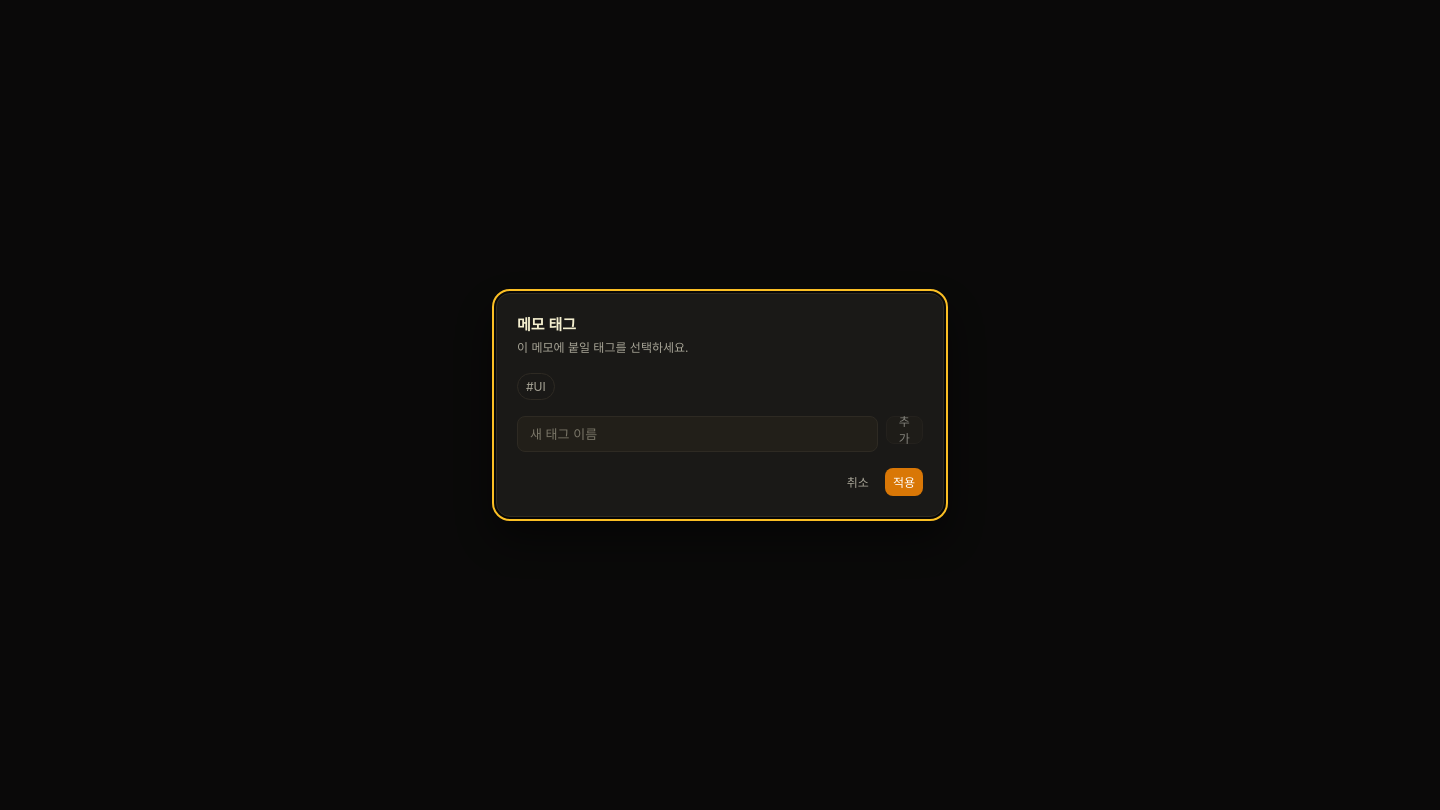
Test: MemoTagPickerDialog › keeps the dialog open and reports apply failures
Click the button "#UI" at x=536, y=387, box [517,373,555,400]
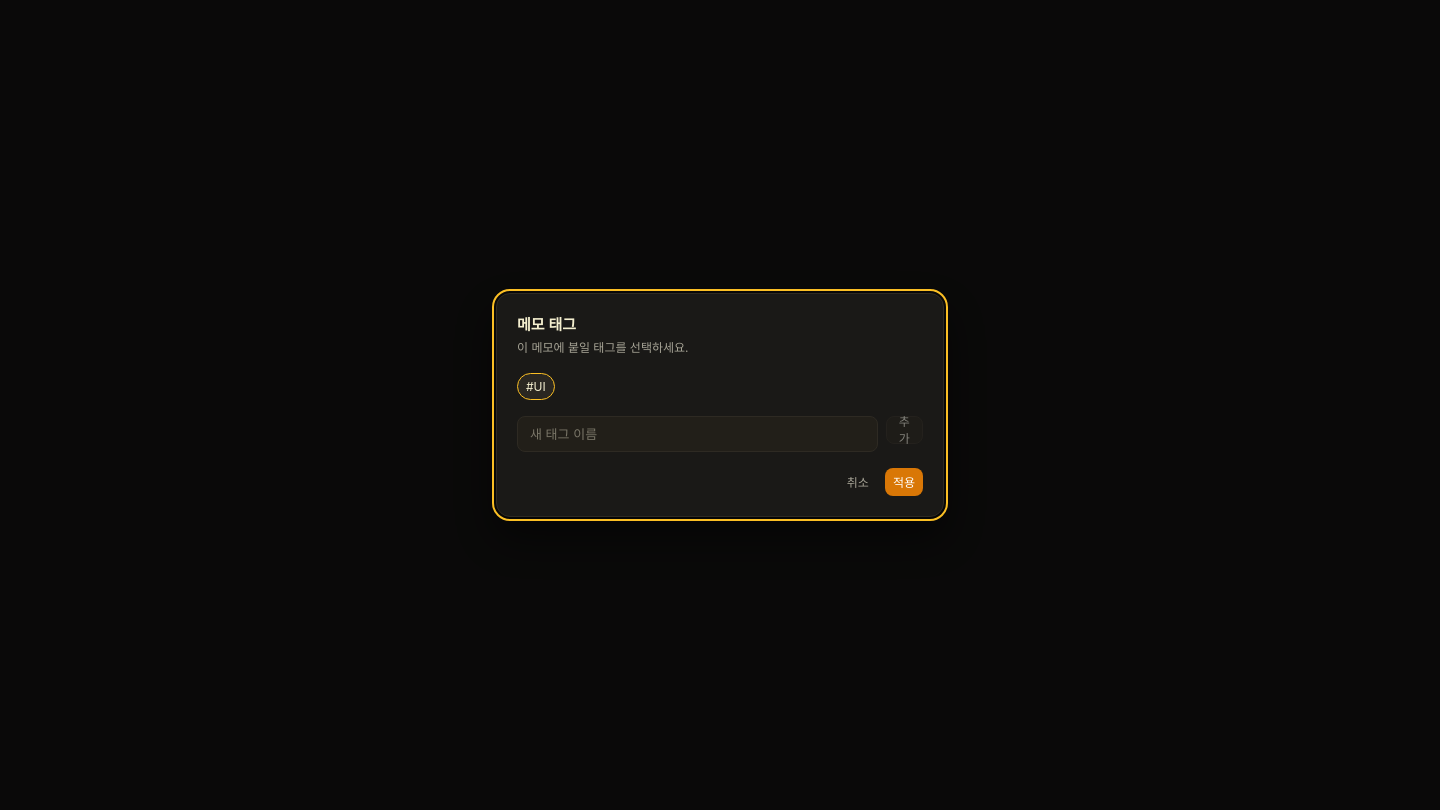
Click the button "적용" at x=904, y=482, box [885,468,923,496]
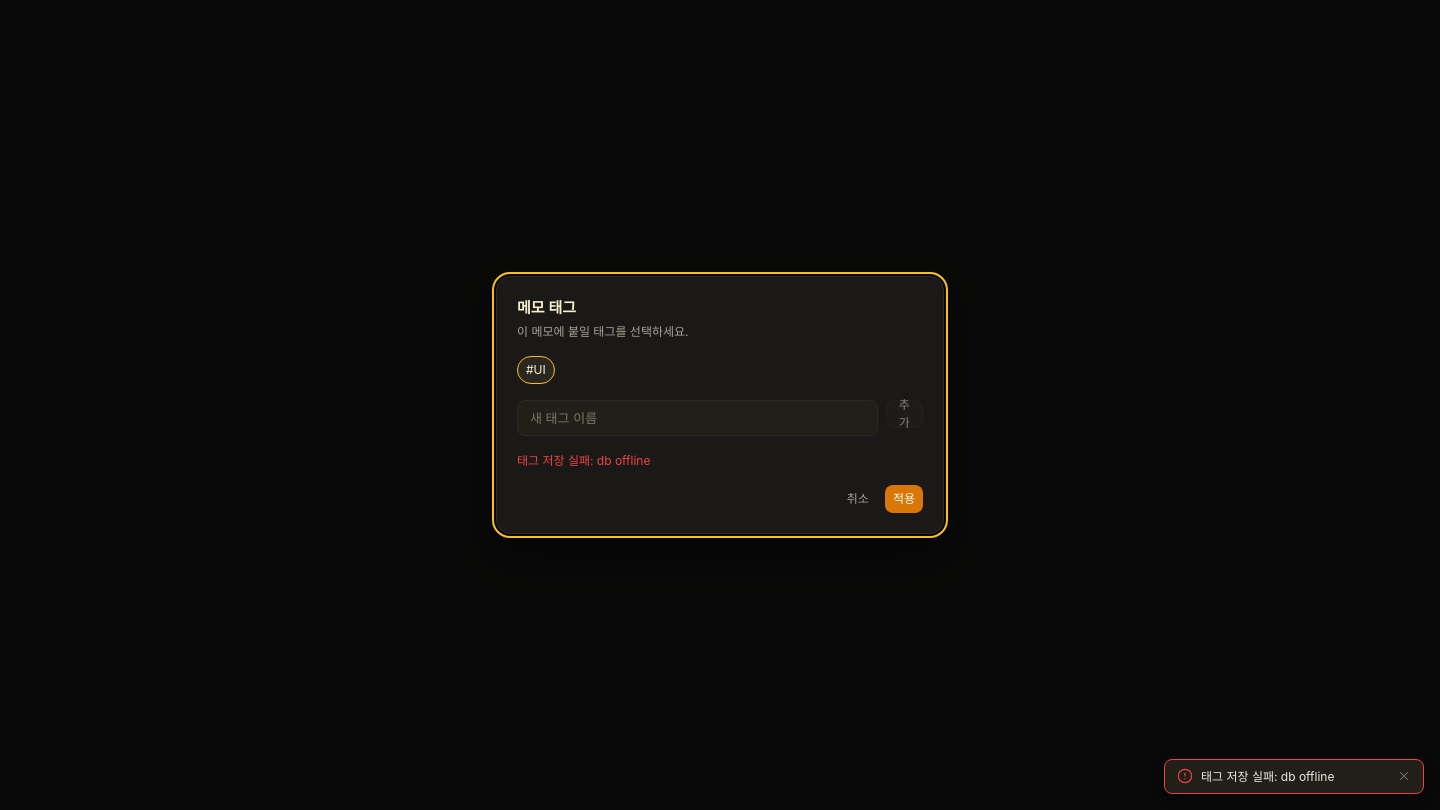
Expected: the dialog is shown, [496,276,944,534]
Expected: the message reads "태그 저장 실패: db offline", [517,453,650,468]
